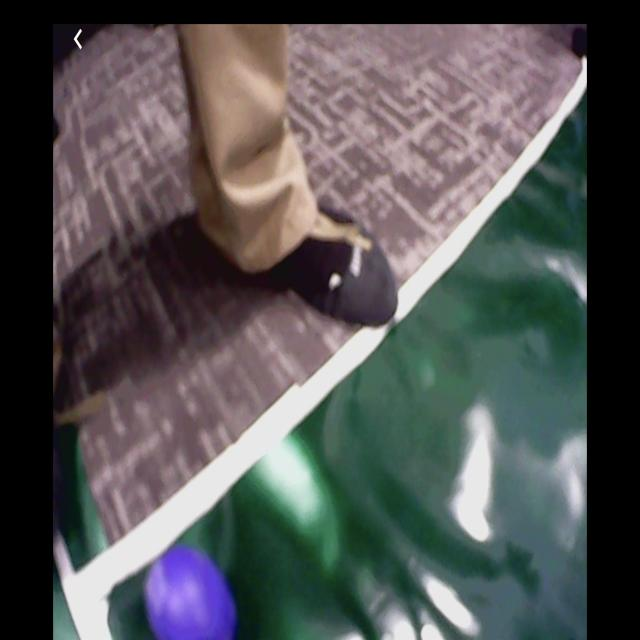ball: (144, 546, 241, 640)
